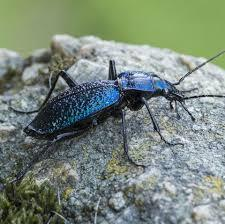insect: (6, 48, 225, 190)
